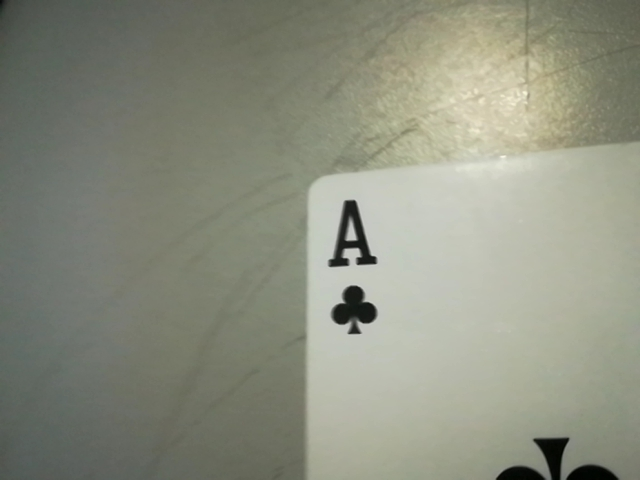mh a: (313, 191, 400, 343)
